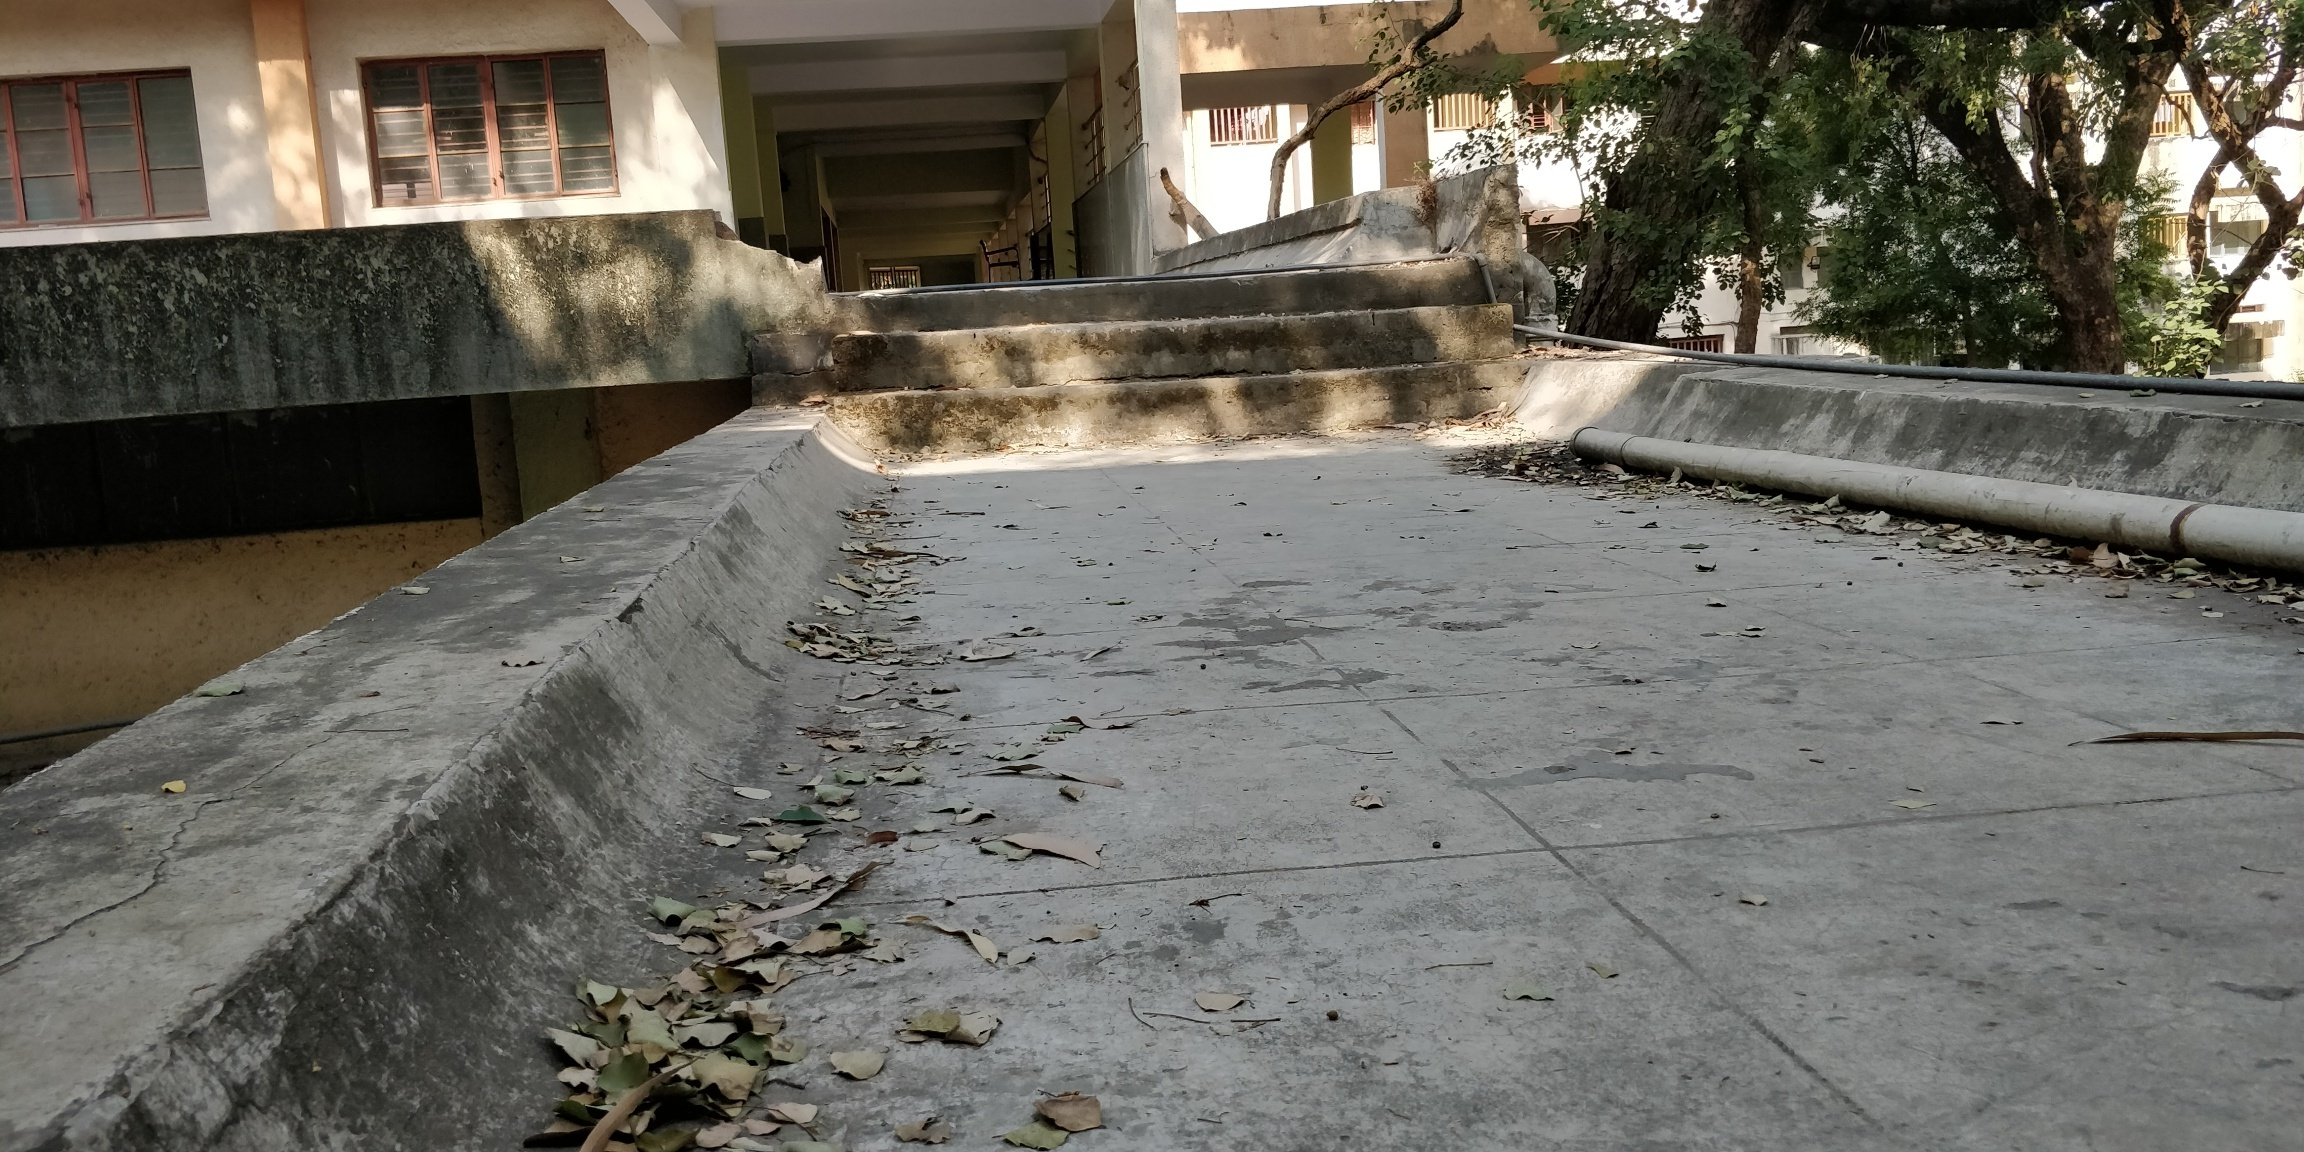stairs_up: (816, 276, 1522, 463)
